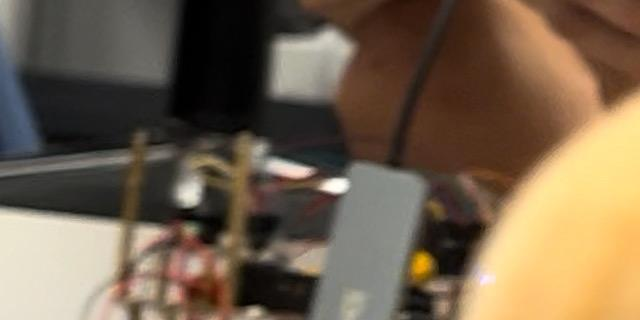burger: (390, 10, 640, 320)
